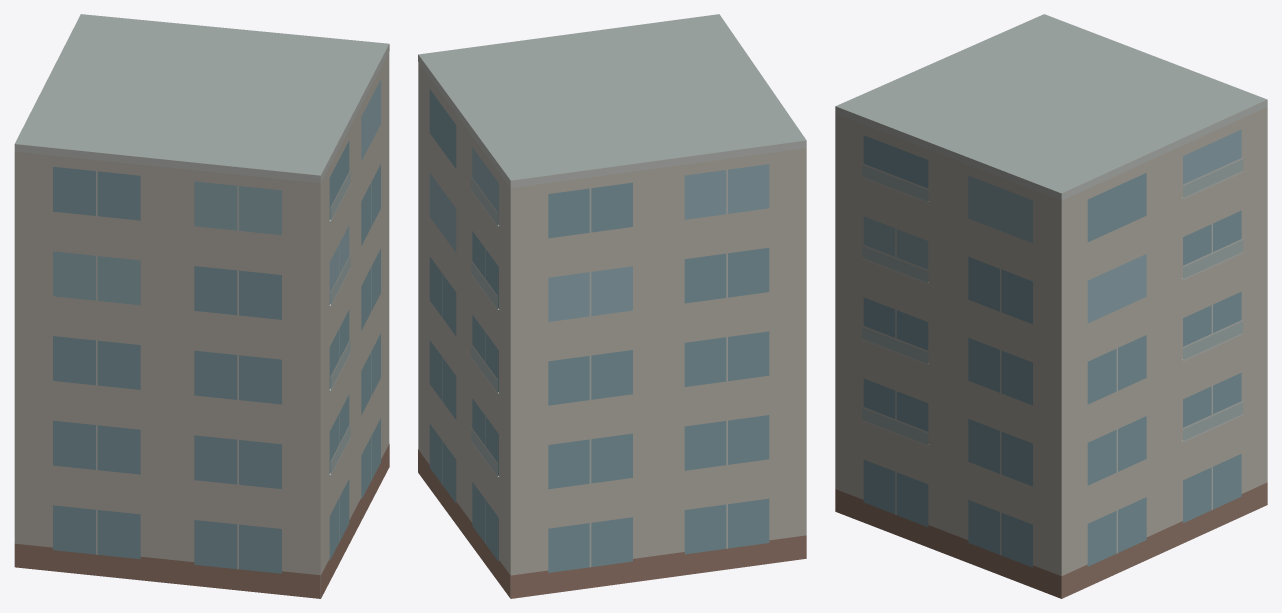
File: survey-upis-32712098.glb
3 renders of one model, left to right at view 1: azimuth 30°, elevation 25°; view 2: azimuth 150°, elevation 25°; view 3: azimuth 270°, elevation 25°, orthographic. The views are drawn at different scales.
Parts seen in each view (by area): view 1: survey-upis-32712098.tmp; view 2: survey-upis-32712098.tmp; view 3: survey-upis-32712098.tmp.
Boxes of the visible parts, x1,y1,x2,y2 form: survey-upis-32712098.tmp: (14, 14, 389, 598); survey-upis-32712098.tmp: (418, 14, 806, 598); survey-upis-32712098.tmp: (835, 14, 1267, 598).
Bounding box in the file's own units: 12.83 × 13.5 × 13.05.
